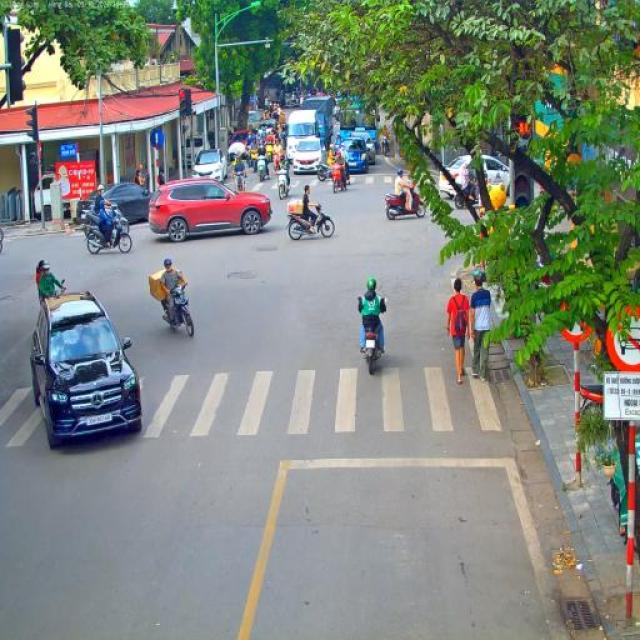bus: (504, 64, 640, 198), (333, 96, 381, 143)
car: (30, 290, 144, 450), (148, 176, 272, 243), (76, 181, 158, 227), (439, 152, 511, 202), (191, 148, 228, 183), (292, 136, 324, 175), (340, 136, 368, 174), (350, 126, 376, 166), (248, 110, 262, 130), (233, 129, 252, 143), (258, 120, 274, 132)
motorcycle: (357, 295, 389, 376), (160, 282, 194, 338), (285, 202, 335, 240), (86, 215, 133, 255), (80, 202, 130, 239), (384, 183, 426, 222), (453, 182, 478, 210), (326, 162, 346, 194), (42, 278, 68, 302), (275, 168, 291, 200), (334, 157, 350, 185), (256, 155, 270, 183), (317, 160, 333, 182), (234, 172, 247, 193), (379, 136, 392, 156), (272, 153, 283, 175), (247, 147, 258, 168), (265, 143, 276, 163), (278, 123, 288, 143)
truck: (286, 97, 334, 162)
